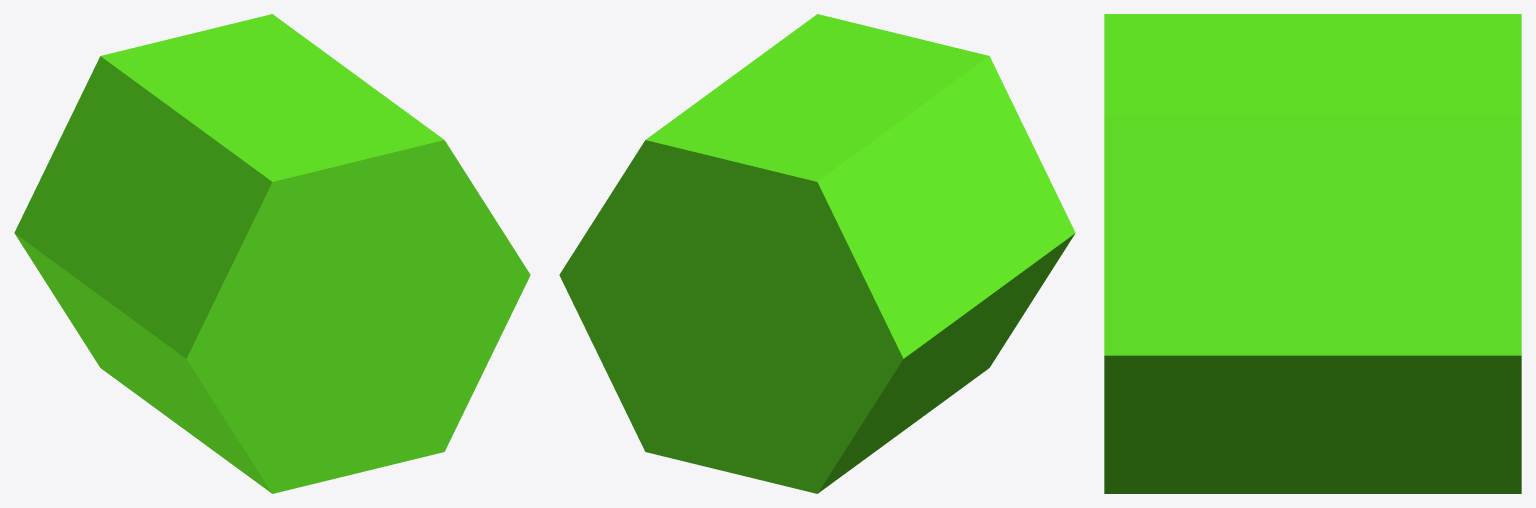
Rendered from hexagon.fbx.
The picture shows the model from 3 angles, left to right: view 1: azimuth 30°, elevation 25°; view 2: azimuth 150°, elevation 25°; view 3: azimuth 270°, elevation 25°; orthographic projection. The views are drawn at different scales.
Size of the model in its own units: 115 by 100 by 100.
